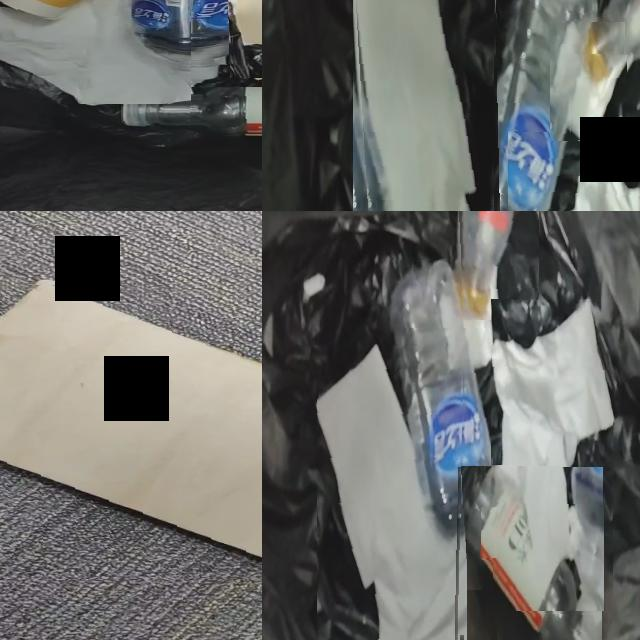bottle: (391, 261, 491, 591), (478, 0, 594, 211), (464, 468, 590, 640), (133, 0, 241, 83), (122, 87, 262, 135), (461, 211, 522, 320), (590, 0, 640, 83)
carton: (0, 285, 262, 558)
paper: (318, 348, 489, 640), (317, 346, 460, 640), (491, 301, 613, 611), (356, 0, 472, 211), (0, 0, 191, 104), (550, 22, 625, 141), (571, 55, 627, 140), (467, 591, 498, 640), (481, 507, 497, 558)
